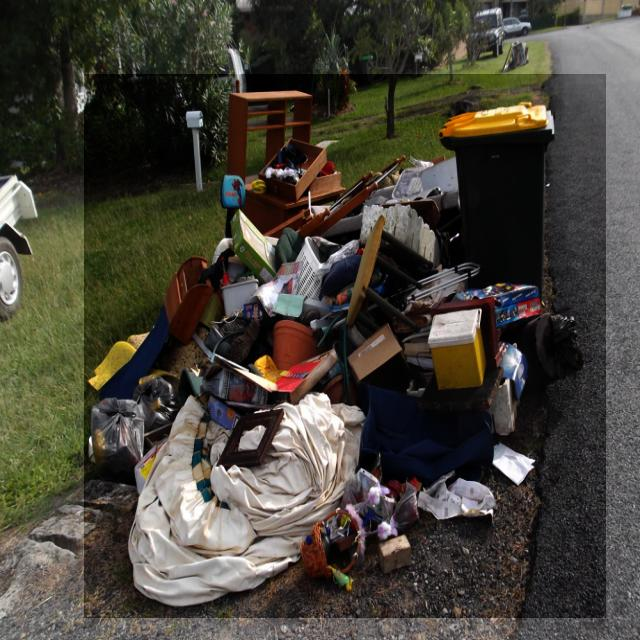dumping: (84, 74, 606, 618)
